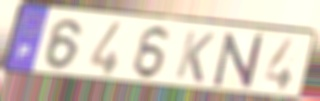4: (86, 19, 125, 78), (262, 37, 296, 94)
6: (131, 25, 172, 82), (44, 17, 87, 71)
K: (172, 28, 218, 86)
N: (212, 32, 266, 90)
